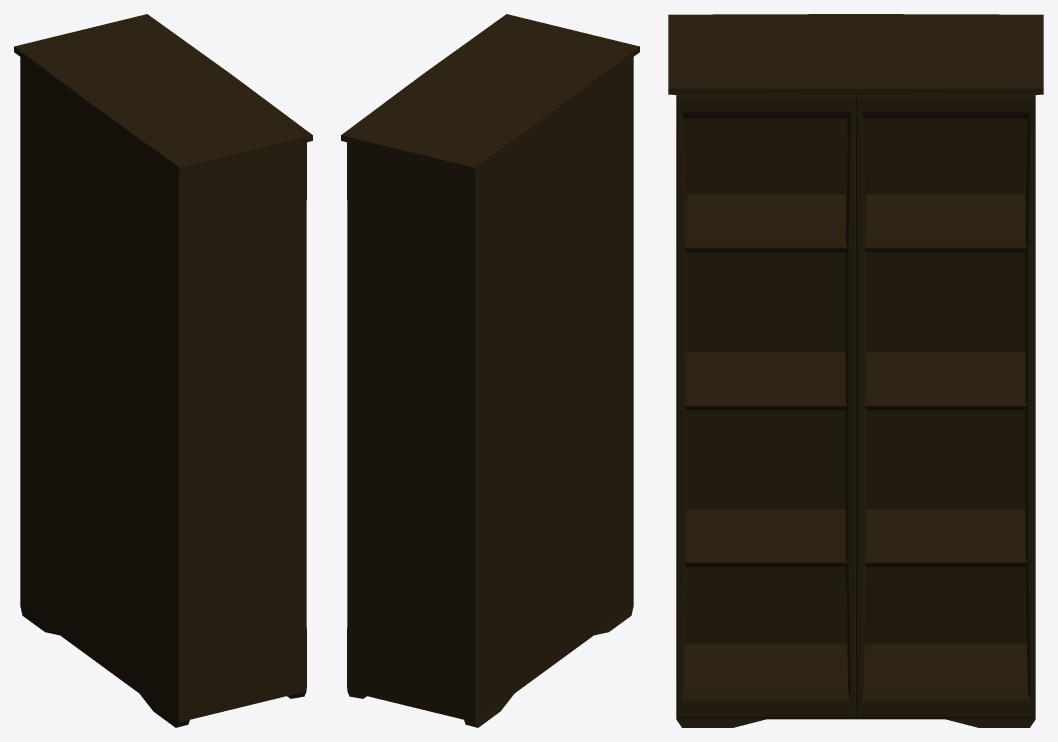
Rendered from M_Bookcase02.fbx.
3 views of the same model, side by side, from view 1: azimuth 30°, elevation 25°; view 2: azimuth 150°, elevation 25°; view 3: azimuth 270°, elevation 25° (orthographic). The views are drawn at different scales.
Visible parts, largest first — view 1: Bookcase.001; view 2: Bookcase.001; view 3: Bookcase.001.
Boxes of the visible parts, left/top/right/bottom form: Bookcase.001: left=14, top=14, right=312, bottom=727; Bookcase.001: left=341, top=14, right=639, bottom=727; Bookcase.001: left=668, top=14, right=1043, bottom=727.
Bounding box in the file's own units: 39.78 × 158 × 84.13.
